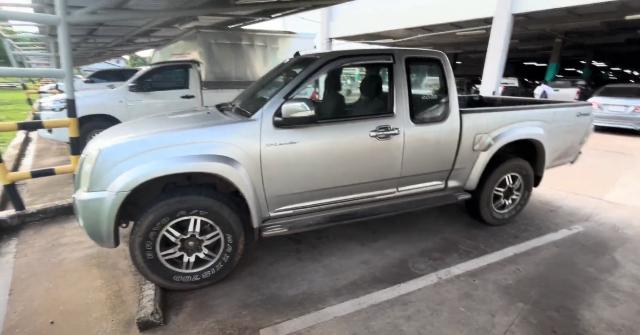pickup-truck: (77, 48, 594, 289)
